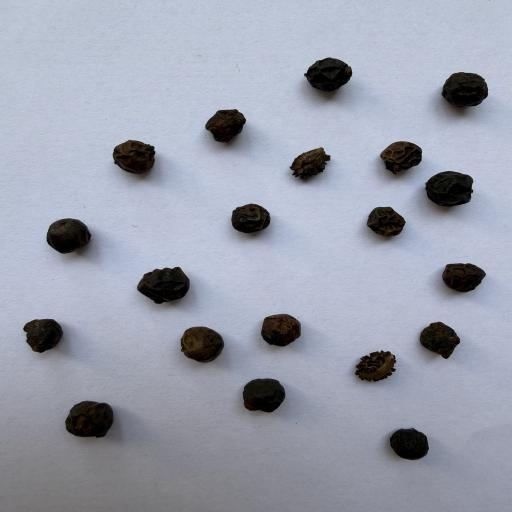Black_pepper: (61, 400, 118, 440), (421, 168, 476, 208), (178, 322, 226, 366), (106, 138, 158, 176), (137, 266, 191, 302), (440, 70, 489, 108), (421, 321, 465, 362), (304, 55, 352, 92), (45, 218, 94, 254), (242, 377, 285, 417), (259, 310, 305, 347), (388, 424, 434, 461), (20, 318, 64, 356), (363, 204, 405, 239), (443, 260, 486, 294), (205, 107, 243, 143), (379, 141, 422, 172), (228, 200, 266, 228)
papaya_seed: (262, 137, 367, 193), (333, 345, 409, 401)
